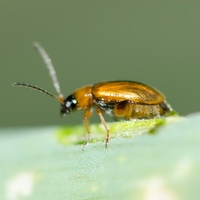insect: (14, 42, 174, 147)
